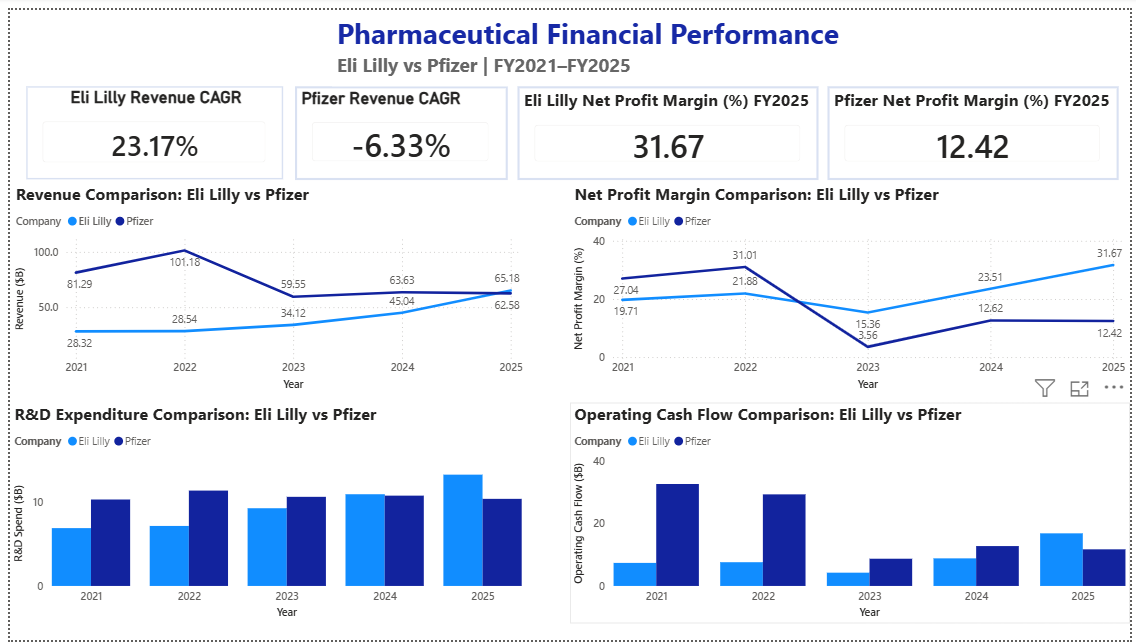

The dashboard page shown, as its layout file describes it:
{"tool":"powerbi","page":{"name":"Financial Performance","canvas":[1280,720],"ordinal":0},"visuals":[{"type":"lineChart","title":"Revenue Comparison: Eli Lilly vs Pfizer","fields":{"Series":["Append1.Company"],"Y":["Sum(Append1.Revenue_USD_bn)"],"Category":["Append1.Year"]},"box":[1.4,196.7,590,242.9],"z":0},{"type":"cardVisual","title":"Eli Lilly Revenue CAGR","fields":{"Data":["Company_Revenue_Comparison.Lilly Revenue CAGR"]},"box":[18.3,86.7,293.3,106.7],"z":1000},{"type":"cardVisual","title":"Pfizer Revenue CAGR","fields":{"Data":["Company_Revenue_Comparison.Pfizer Revenue CAGR"]},"box":[325.7,87.1,242.9,107.1],"z":2000},{"type":"lineChart","title":"Net Profit Margin Comparison: Eli Lilly vs Pfizer","fields":{"Series":["Company_Net_Margin_Comparison.Company"],"Y":["Sum(Company_Net_Margin_Comparison.Net_Margin_%)"],"Category":["Company_Net_Margin_Comparison.Year"]},"box":[640,196.7,640,242.9],"z":3000},{"type":"clusteredColumnChart","title":"R&D Expenditure Comparison: Eli Lilly vs Pfizer","fields":{"Series":["RD_Comparison.Company"],"Y":["Sum(RD_Comparison.RD_Expense_USD_bn)"],"Category":["RD_Comparison.Year"]},"box":[0,448,590,252.9],"z":4000},{"type":"clusteredColumnChart","title":"Operating Cash Flow Comparison: Eli Lilly vs Pfizer","fields":{"Series":["Financial_Comparison.Company"],"Category":["Financial_Comparison.Year"],"Y":["Sum(Financial_Comparison.Operating Cash Flow)"]},"box":[640,448,640,252.9],"z":5000},{"type":"textbox","box":[368.6,0,625.7,87.1],"z":6000},{"type":"cardVisual","title":"Eli Lilly Net Profit Margin (%) FY2025","fields":{"Data":["Sum(Company_Net_Margin_Comparison.Net_Margin_%)"]},"box":[580,87.1,344.3,107.1],"z":7000},{"type":"cardVisual","title":"Pfizer Net Profit Margin (%) FY2025","fields":{"Data":["Sum(Company_Net_Margin_Comparison.Net_Margin_%)"]},"box":[934.3,87.1,332.9,107.1],"z":8000}]}

Visuals, with their boxes in screenshot pixels (x1, y1, x2, y2), scaled from the page's 1280x720 canvas onto the 1136x643 screenshot:
"Revenue Comparison: Eli Lilly vs Pfizer" lineChart: (1, 176, 525, 393)
"Eli Lilly Revenue CAGR" cardVisual: (16, 77, 277, 173)
"Pfizer Revenue CAGR" cardVisual: (289, 78, 505, 173)
"Net Profit Margin Comparison: Eli Lilly vs Pfizer" lineChart: (568, 176, 1135, 393)
"R&D Expenditure Comparison: Eli Lilly vs Pfizer" clusteredColumnChart: (0, 400, 524, 626)
"Operating Cash Flow Comparison: Eli Lilly vs Pfizer" clusteredColumnChart: (568, 400, 1135, 626)
textbox: (327, 0, 882, 78)
"Eli Lilly Net Profit Margin (%) FY2025" cardVisual: (515, 78, 820, 173)
"Pfizer Net Profit Margin (%) FY2025" cardVisual: (829, 78, 1125, 173)
